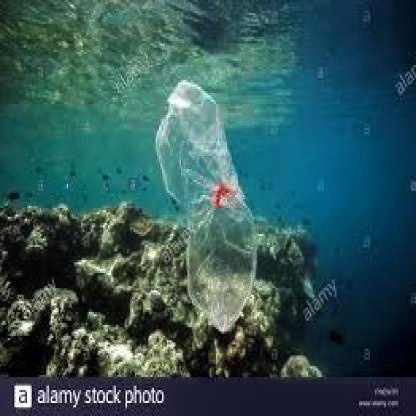pbag: (154, 80, 259, 334)
